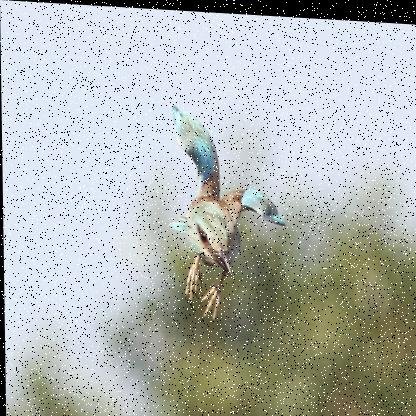Burung: (170, 102, 289, 321)
